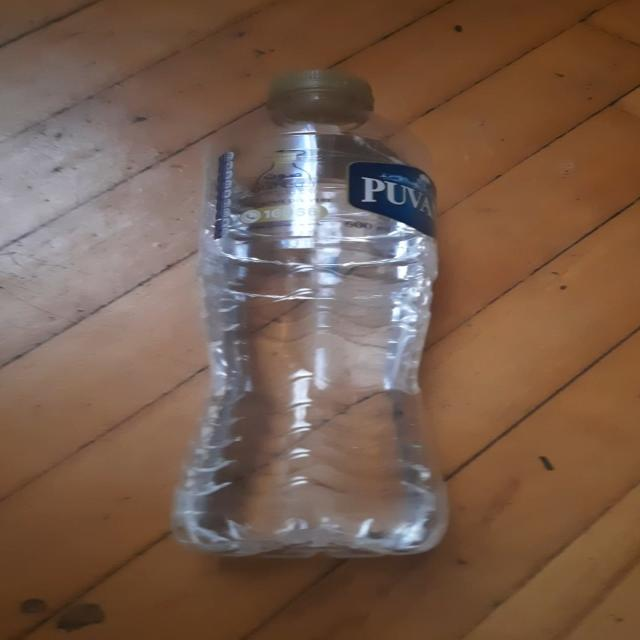Plastic: (169, 70, 450, 562)
